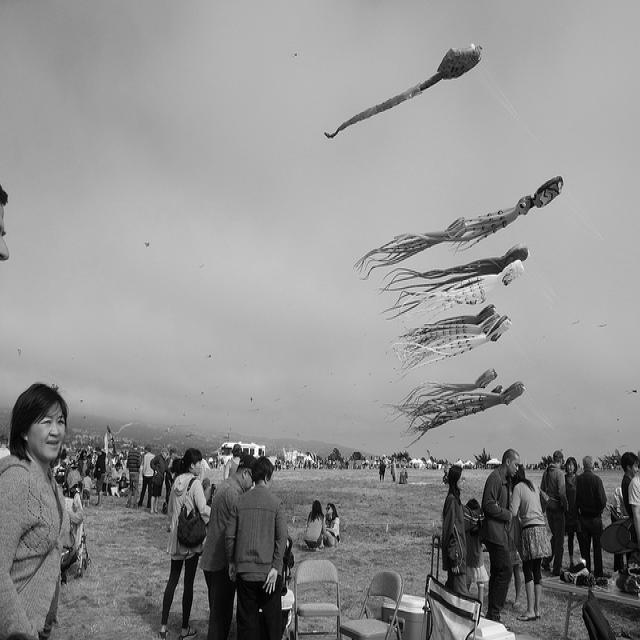monkey: (0, 381, 74, 631), (224, 456, 288, 640), (202, 459, 256, 632), (159, 448, 208, 638), (477, 448, 522, 633), (509, 461, 553, 624), (440, 463, 486, 594), (245, 452, 388, 487), (144, 436, 200, 523), (575, 457, 609, 579), (628, 451, 640, 549), (304, 500, 326, 551), (319, 502, 340, 549), (0, 183, 9, 261), (224, 443, 242, 478)
